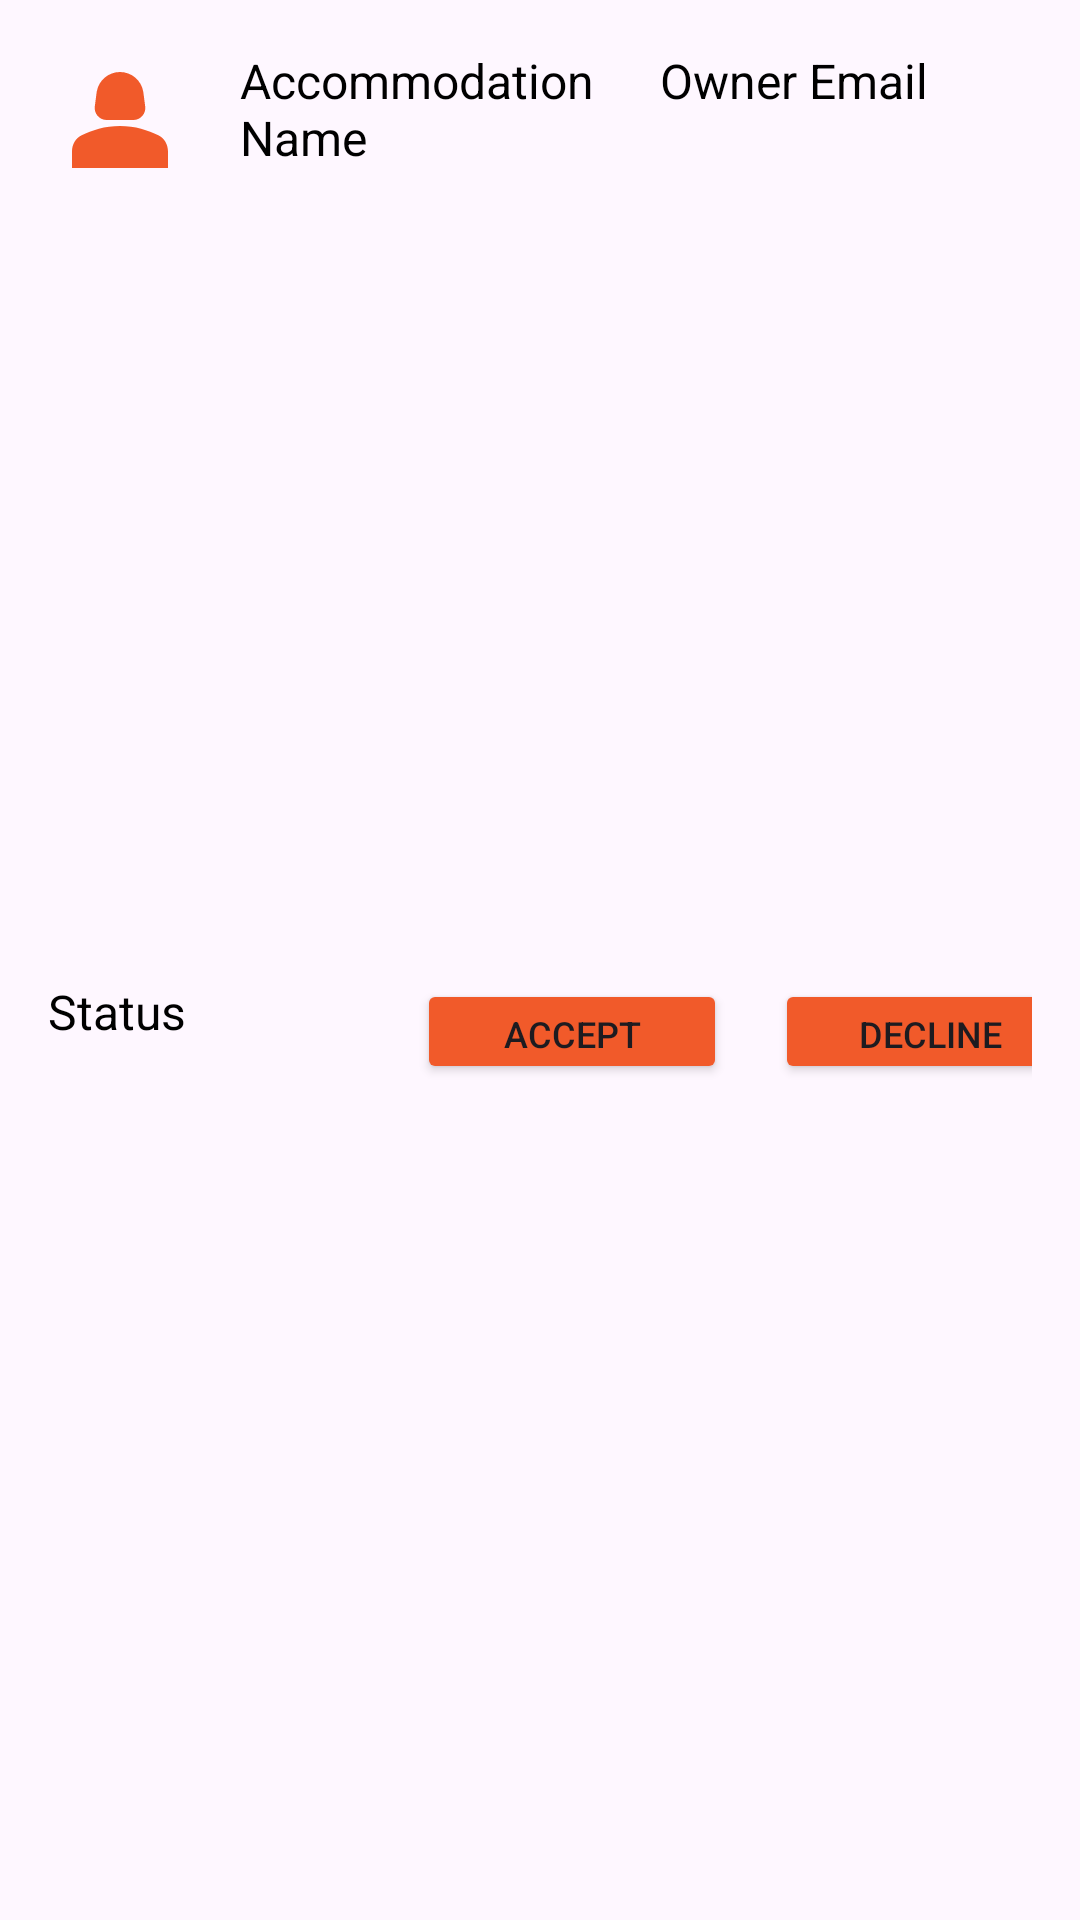

Icons on this 1080 × 1920 Android screen, each with its box as (x1, y1, x2, y2):
person: (72, 72, 168, 168)
